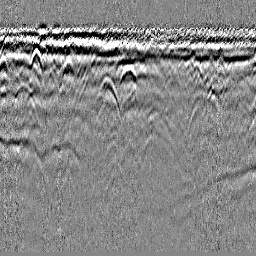cavity: (117, 60, 138, 88)
